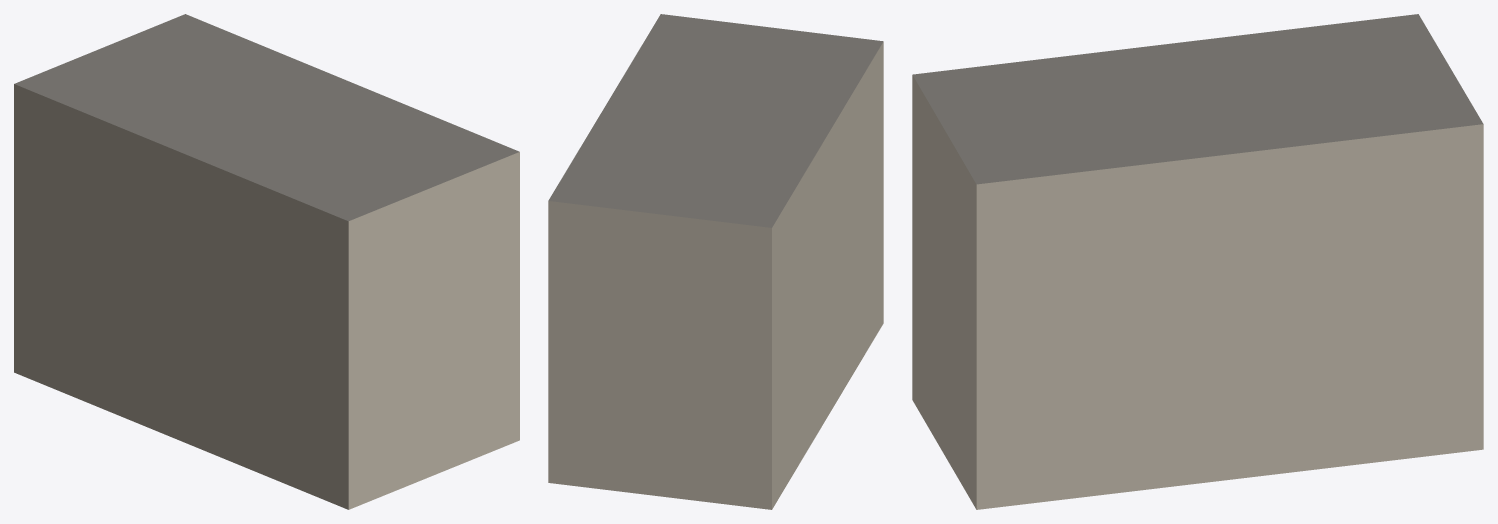
The picture shows the model from 3 angles, left to right: view 1: azimuth 30°, elevation 25°; view 2: azimuth 150°, elevation 25°; view 3: azimuth 270°, elevation 25°; orthographic projection. The views are drawn at different scales.
Parts seen in each view (by area): view 1: HP-w446934361; view 2: HP-w446934361; view 3: HP-w446934361.
Boxes of the visible parts, bbox=[...] form: HP-w446934361: bbox=[14, 14, 519, 509]; HP-w446934361: bbox=[548, 14, 883, 509]; HP-w446934361: bbox=[912, 14, 1483, 509].
Bounding box in the file's own units: 20.22 × 18 × 28.63.
